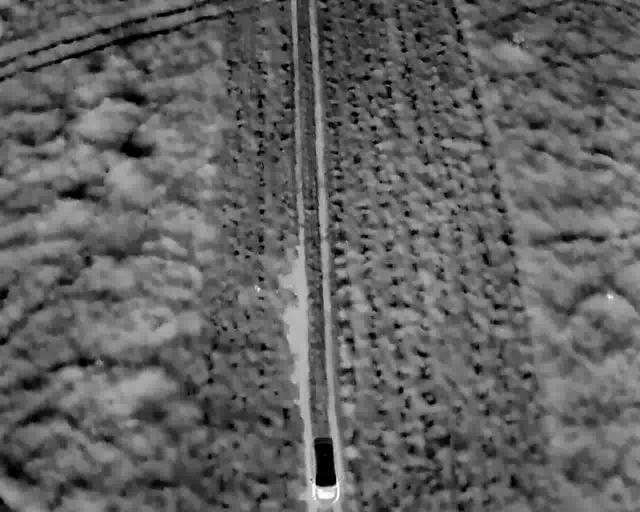car: (308, 434, 340, 506)
